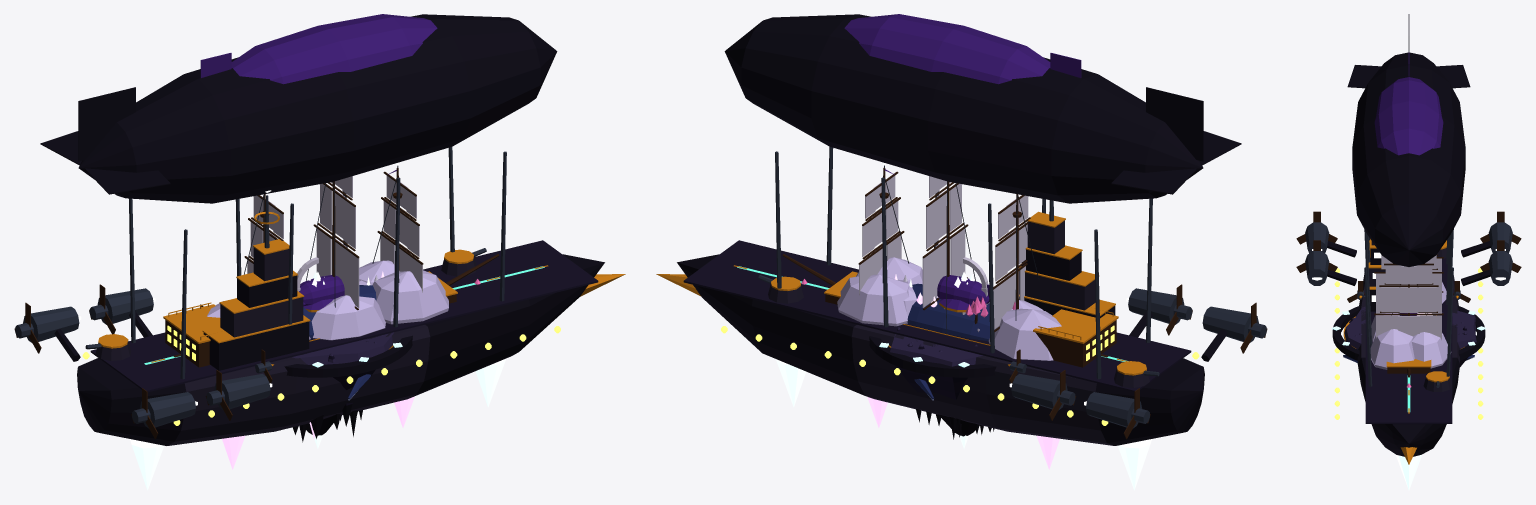
The model's file is crossroads_orbiters.fbx.
3 views of the same model, side by side, from view 1: azimuth 30°, elevation 25°; view 2: azimuth 150°, elevation 25°; view 3: azimuth 270°, elevation 25° (orthographic). The views are drawn at different scales.
Parts seen in each view (by area): view 1: hubprop_ship_carrier, hubprop_ship_galleon, hubprop_cloud_a, hubprop_isle_grove, hubprop_rune_ring, hubprop_ship_cog, hubprop_cloud_b; view 2: hubprop_ship_carrier, hubprop_ship_galleon, hubprop_cloud_b, hubprop_isle_grove, hubprop_sky_whale, hubprop_rune_ring, hubprop_ship_cog, hubprop_cloud_a, hubprop_isle_shrine; view 3: hubprop_ship_carrier, hubprop_ship_galleon, hubprop_cloud_a, hubprop_rune_ring, hubprop_cloud_b, hubprop_isle_grove, hubprop_isle_ruin.
Boxes of the visible parts, x1,y1,x2,y2 form: hubprop_ship_carrier: (15,14,625,490); hubprop_ship_galleon: (163,14,499,373); hubprop_cloud_a: (311,270,448,340); hubprop_isle_grove: (292,271,393,442); hubprop_rune_ring: (284,335,412,377); hubprop_ship_cog: (299,275,344,306); hubprop_cloud_b: (207,260,399,339); hubprop_ship_carrier: (656,14,1266,490); hubprop_ship_galleon: (782,14,1118,373); hubprop_cloud_b: (837,274,1061,360); hubprop_isle_grove: (890,271,994,436); hubprop_sky_whale: (894,274,1015,341); hubprop_rune_ring: (869,336,996,377); hubprop_ship_cog: (937,275,989,304); hubprop_cloud_a: (856,257,922,323); hubprop_isle_shrine: (902,299,981,437); hubprop_ship_carrier: (1305,14,1512,490); hubprop_ship_galleon: (1357,52,1460,387); hubprop_cloud_a: (1370,313,1414,369); hubprop_rune_ring: (1332,306,1485,360); hubprop_cloud_b: (1411,282,1451,368); hubprop_isle_grove: (1344,306,1476,367); hubprop_isle_ruin: (1350,312,1470,334).
Bounding box in the file's own units: 207 × 150 × 93.16.
